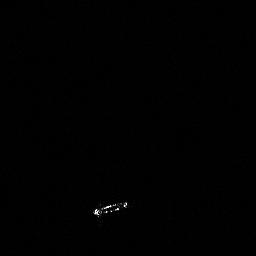ship: (91, 199, 129, 220)
